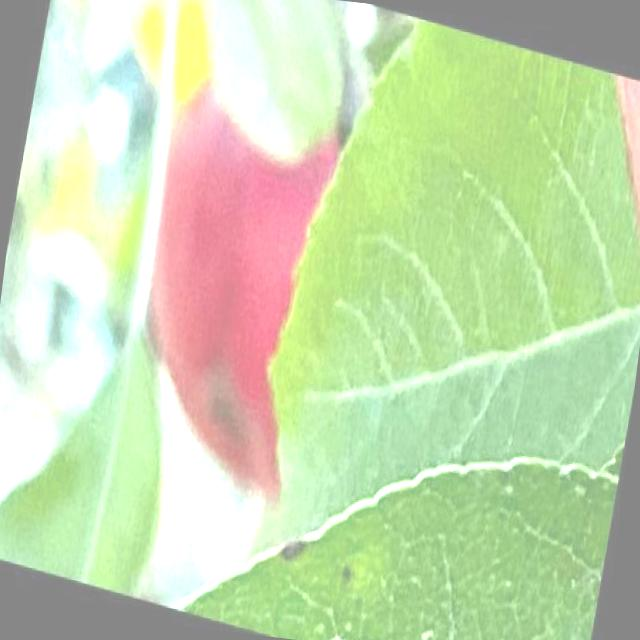Apple: (115, 68, 352, 500)
